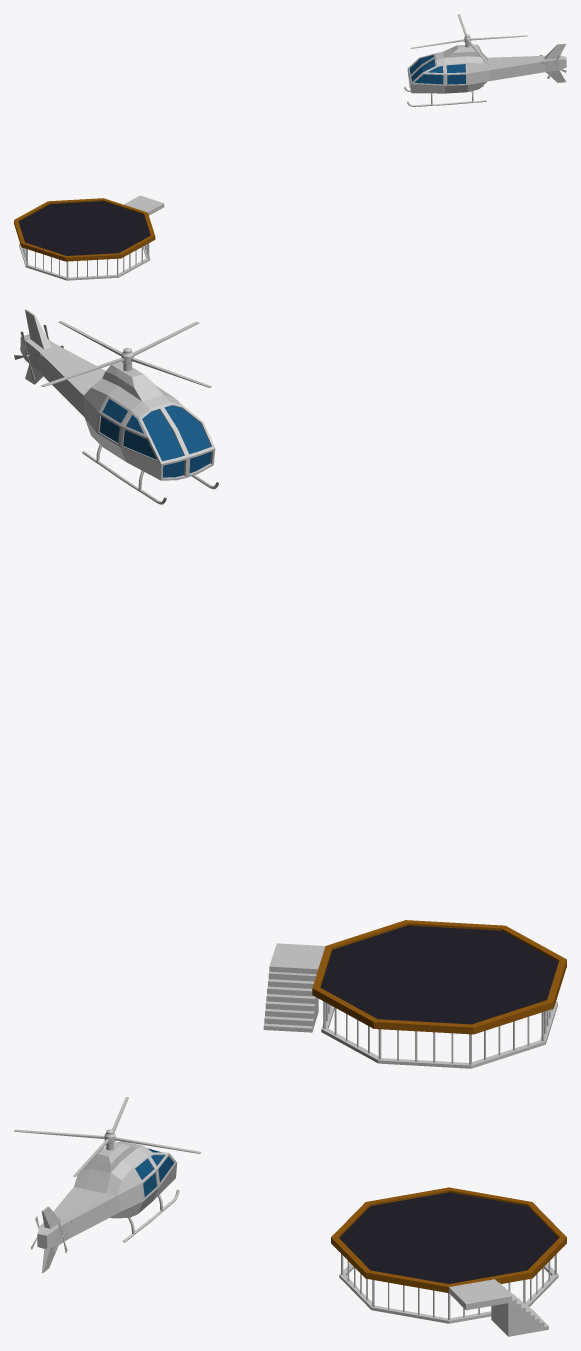
File: copter_000147.obj
3 renders of one model, top to bottom at view 1: azimuth 30°, elevation 25°; view 2: azimuth 150°, elevation 25°; view 3: azimuth 270°, elevation 25°, orthographic. The views are drawn at different scales.
Parts seen in each view (by area): view 1: Cylinder.001_Cylinder.012, Helicopter.007_Cylinder.008, Helicopter.001_Cylinder.001; view 2: Cylinder.001_Cylinder.012, Helicopter.007_Cylinder.008, Helicopter.001_Cylinder.001; view 3: Cylinder.001_Cylinder.012, Helicopter.007_Cylinder.008, Helicopter.001_Cylinder.001, Cylinder.004, Cylinder.002.
Boxes of the visible parts, left/top/right/bottom form: Cylinder.001_Cylinder.012: left=14, top=195, right=164, bottom=280; Helicopter.007_Cylinder.008: left=404, top=43, right=566, bottom=106; Helicopter.001_Cylinder.001: left=410, top=14, right=527, bottom=63; Cylinder.001_Cylinder.012: left=263, top=920, right=566, bottom=1068; Helicopter.007_Cylinder.008: left=20, top=309, right=218, bottom=504; Helicopter.001_Cylinder.001: left=41, top=321, right=211, bottom=387; Cylinder.001_Cylinder.012: left=331, top=1187, right=566, bottom=1336; Helicopter.007_Cylinder.008: left=37, top=1141, right=179, bottom=1273; Helicopter.001_Cylinder.001: left=14, top=1097, right=201, bottom=1176; Cylinder.004: left=347, top=1261, right=550, bottom=1300; Cylinder.002: left=341, top=1254, right=556, bottom=1320.
Size of the model in its own units: 22.56 by 11.61 by 15.87.
